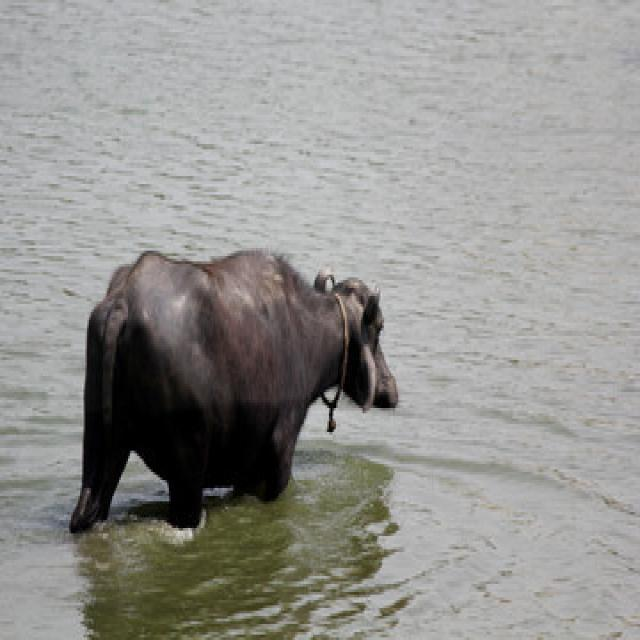Buffalo: (66, 240, 400, 533)
